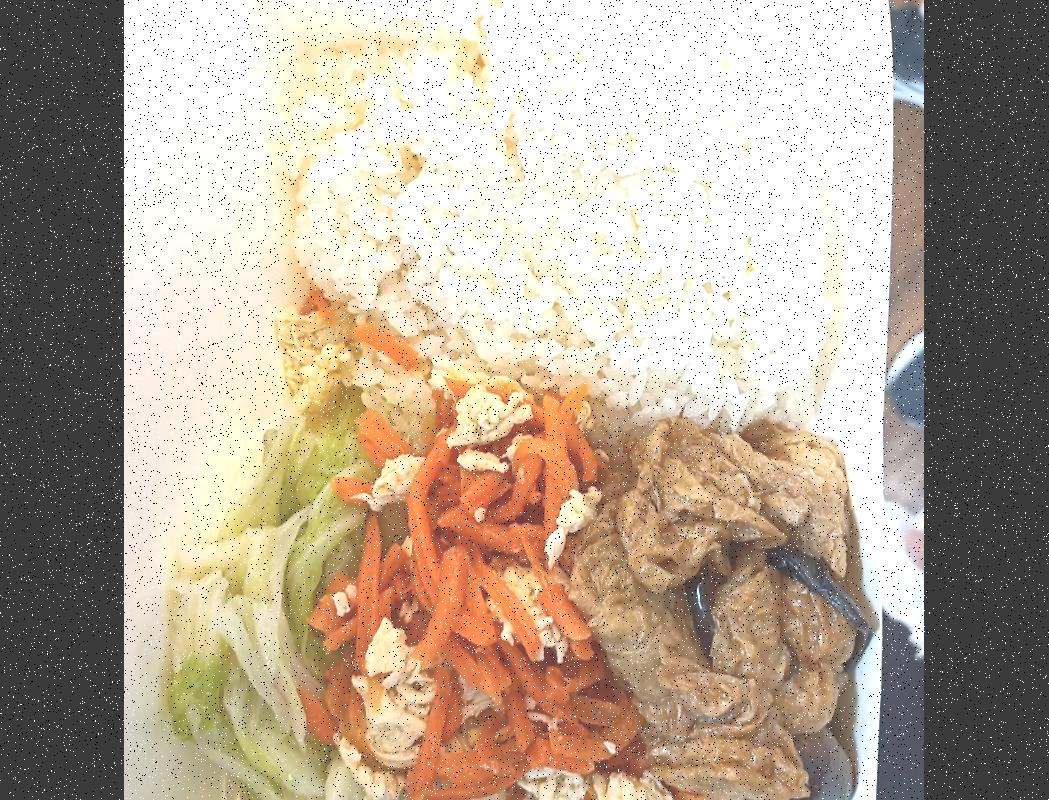box: (219, 0, 894, 800)
side dish: (317, 372, 610, 800), (580, 434, 859, 800), (153, 404, 371, 800)
white rice: (275, 0, 843, 435)
